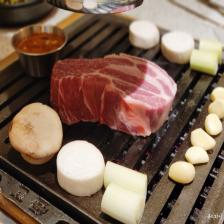meat: (50, 53, 178, 136)
